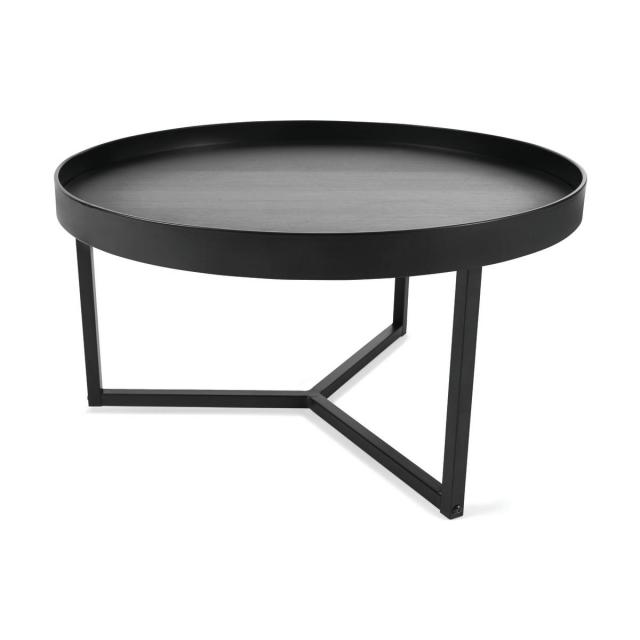Table: (25, 90, 632, 547)
